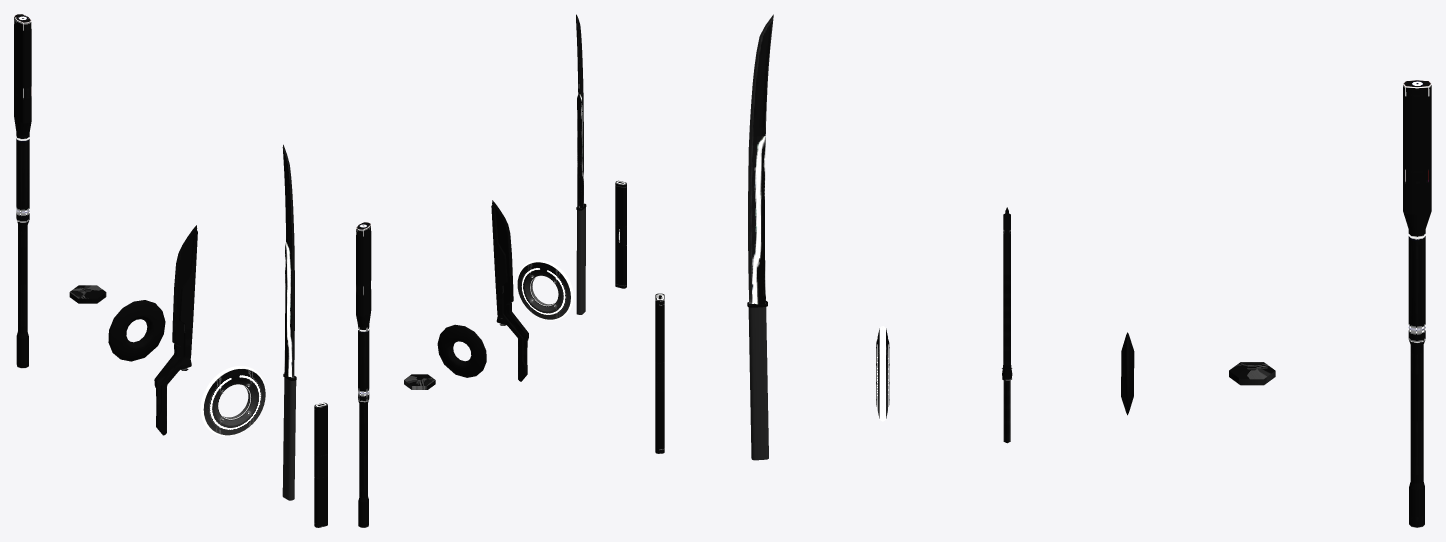
File: tron_catalyst_weapons.glb
3 views of the same model, side by side, from view 1: azimuth 30°, elevation 25°; view 2: azimuth 150°, elevation 25°; view 3: azimuth 270°, elevation 25° (orthographic). The views are drawn at different scales.
Visible parts, largest first — view 1: SubMesh_0.004_DefaultMaterial.008_0, SubMesh_0.002_DefaultMaterial.006_0, Cylinder_LOD0, SubMesh_0.003_DefaultMaterial.007_0, SM_Sword, SubMesh_0.001_DefaultMaterial.001_0, PF_Sword, SubMesh_0.005_DefaultMaterial.009_0; view 2: SubMesh_0.004_DefaultMaterial.008_0, SubMesh_0.002_DefaultMaterial.006_0, Cylinder_LOD0, SubMesh_0.003_DefaultMaterial.007_0, SubMesh_0.001_DefaultMaterial.001_0, SM_Sword, PF_Sword, SubMesh_0.005_DefaultMaterial.009_0; view 3: SubMesh_0.004_DefaultMaterial.008_0, SM_Sword, PF_Sword, SubMesh_0.002_DefaultMaterial.006_0, SubMesh_0.001_DefaultMaterial.001_0, Cylinder_LOD0, SubMesh_0.005_DefaultMaterial.009_0, SubMesh_0.003_DefaultMaterial.007_0.
Part boxes in pixels (box(x1,y1,x2,y2)): SubMesh_0.004_DefaultMaterial.008_0: box(14, 14, 31, 368); SubMesh_0.002_DefaultMaterial.006_0: box(154, 225, 197, 435); Cylinder_LOD0: box(200, 366, 266, 436); SubMesh_0.003_DefaultMaterial.007_0: box(108, 300, 165, 361); SM_Sword: box(282, 144, 296, 380); SubMesh_0.001_DefaultMaterial.001_0: box(314, 402, 327, 527); PF_Sword: box(282, 377, 296, 500); SubMesh_0.005_DefaultMaterial.009_0: box(69, 285, 106, 303); SubMesh_0.004_DefaultMaterial.008_0: box(356, 222, 371, 527); SubMesh_0.002_DefaultMaterial.006_0: box(491, 200, 528, 381); Cylinder_LOD0: box(517, 260, 573, 320); SubMesh_0.003_DefaultMaterial.007_0: box(437, 324, 486, 377); SubMesh_0.001_DefaultMaterial.001_0: box(615, 180, 626, 288); SM_Sword: box(576, 14, 586, 210); PF_Sword: box(576, 207, 585, 314); SubMesh_0.005_DefaultMaterial.009_0: box(404, 374, 435, 389); SubMesh_0.004_DefaultMaterial.008_0: box(1403, 80, 1431, 527); SM_Sword: box(747, 14, 773, 307); PF_Sword: box(748, 307, 768, 460); SubMesh_0.002_DefaultMaterial.006_0: box(1002, 207, 1012, 443); SubMesh_0.001_DefaultMaterial.001_0: box(655, 293, 664, 453); Cylinder_LOD0: box(876, 326, 889, 421); SubMesh_0.005_DefaultMaterial.009_0: box(1229, 362, 1275, 385); SubMesh_0.003_DefaultMaterial.007_0: box(1121, 332, 1134, 415).
Size of the model in its own units: 0.3 by 1.78 by 2.43.
Materials: 8 (6 with a texture image).
